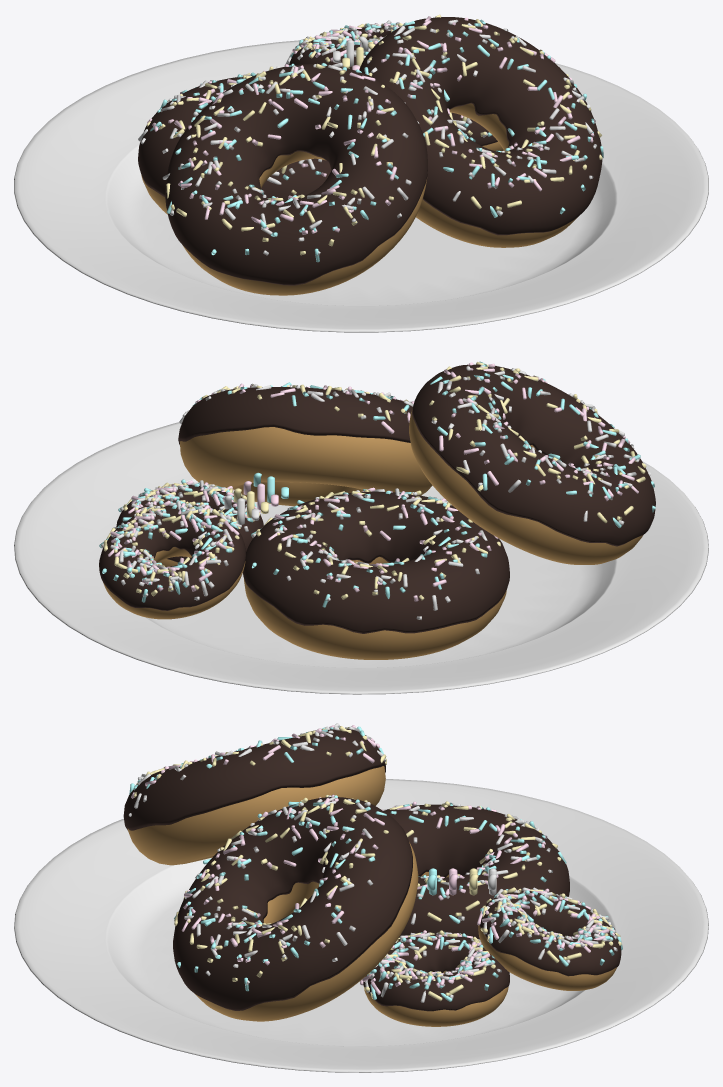
Rendered from donat.fbx.
The picture shows the model from 3 angles, top to bottom: view 1: azimuth 30°, elevation 25°; view 2: azimuth 150°, elevation 25°; view 3: azimuth 270°, elevation 25°; orthographic projection.
Visible parts, largest first — view 1: piring, Torus.005, Torus.002, Torus.000, Torus.004, Torus.003, Torus.008, Torus.006; view 2: piring, Torus.000, Torus.005, Torus.003, Torus.002, Torus.008, Torus.004, Torus.001, Torus.009, Torus.006; view 3: piring, Torus.002, Torus.000, Torus.005, Torus.004, Torus.003, Torus.006, Torus.008, Torus.007, Torus.009.
Boxes of the visible parts, x1,y1,x2,y2 form: piring: (14, 40, 708, 332); Torus.005: (165, 64, 427, 285); Torus.002: (359, 17, 602, 235); Torus.000: (138, 77, 331, 200); Torus.004: (183, 151, 426, 295); Torus.003: (416, 103, 577, 247); Torus.008: (289, 25, 390, 69); Torus.006: (451, 112, 497, 145); piring: (14, 401, 708, 694); Torus.000: (243, 491, 509, 633); Torus.005: (412, 364, 655, 546); Torus.003: (180, 427, 432, 506); Torus.002: (178, 387, 412, 444); Torus.008: (99, 504, 245, 610); Torus.004: (409, 410, 643, 564); Torus.001: (244, 557, 506, 659); Torus.009: (103, 547, 245, 619); Torus.006: (116, 485, 263, 562); piring: (14, 779, 708, 1072); Torus.002: (173, 797, 412, 1010); Torus.000: (383, 804, 569, 939); Torus.005: (123, 728, 385, 830); Torus.004: (127, 766, 385, 865); Torus.003: (194, 842, 418, 1021); Torus.006: (363, 934, 509, 1011); Torus.008: (479, 890, 621, 976); Torus.007: (364, 970, 508, 1026); Torus.009: (478, 925, 616, 990).
Size of the model in its own units: 798 by 258 by 798.
